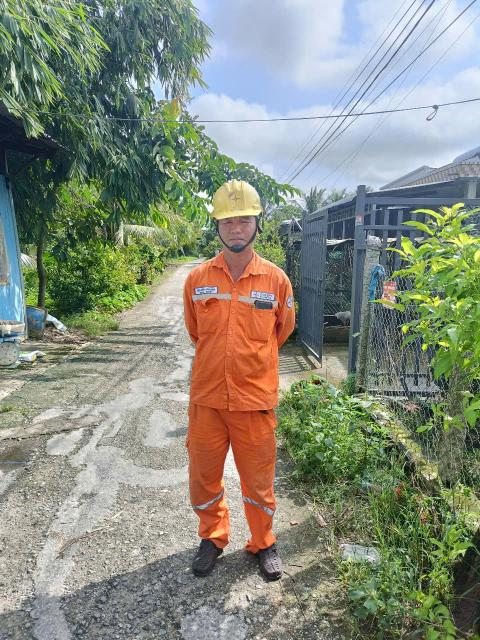helmet: (208, 172, 273, 228)
shoes: (182, 531, 227, 579), (257, 539, 283, 583)
